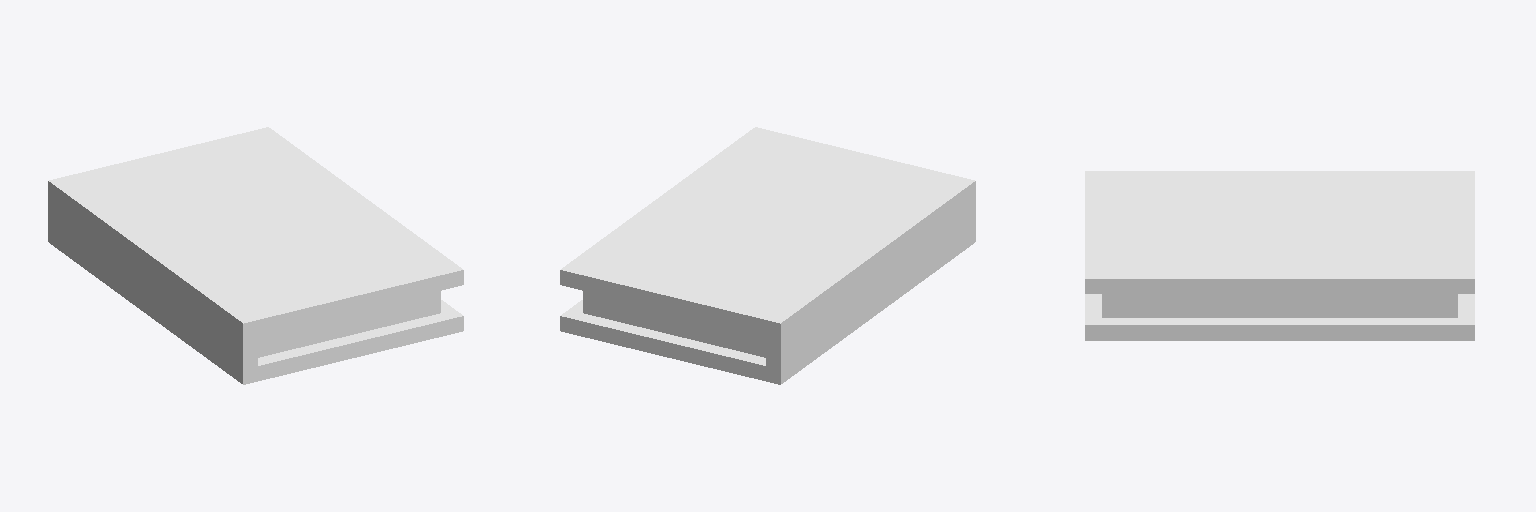
Rendered from Book3.obj.
3 views of the same model, side by side, from view 1: azimuth 30°, elevation 25°; view 2: azimuth 150°, elevation 25°; view 3: azimuth 270°, elevation 25° (orthographic).
Visible parts, largest first — view 1: object 1; view 2: object 1; view 3: object 1.
Boxes of the visible parts, x1,y1,x2,y2 form: object 1: [48, 127, 463, 384]; object 1: [560, 127, 975, 384]; object 1: [1085, 171, 1474, 340].
Bounding box in the file's own units: 1.5 × 0.4 × 2.3.